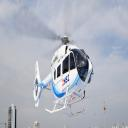helicopter: (32, 25, 97, 126)
